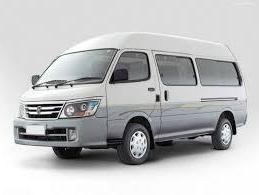van: (12, 28, 247, 161)
